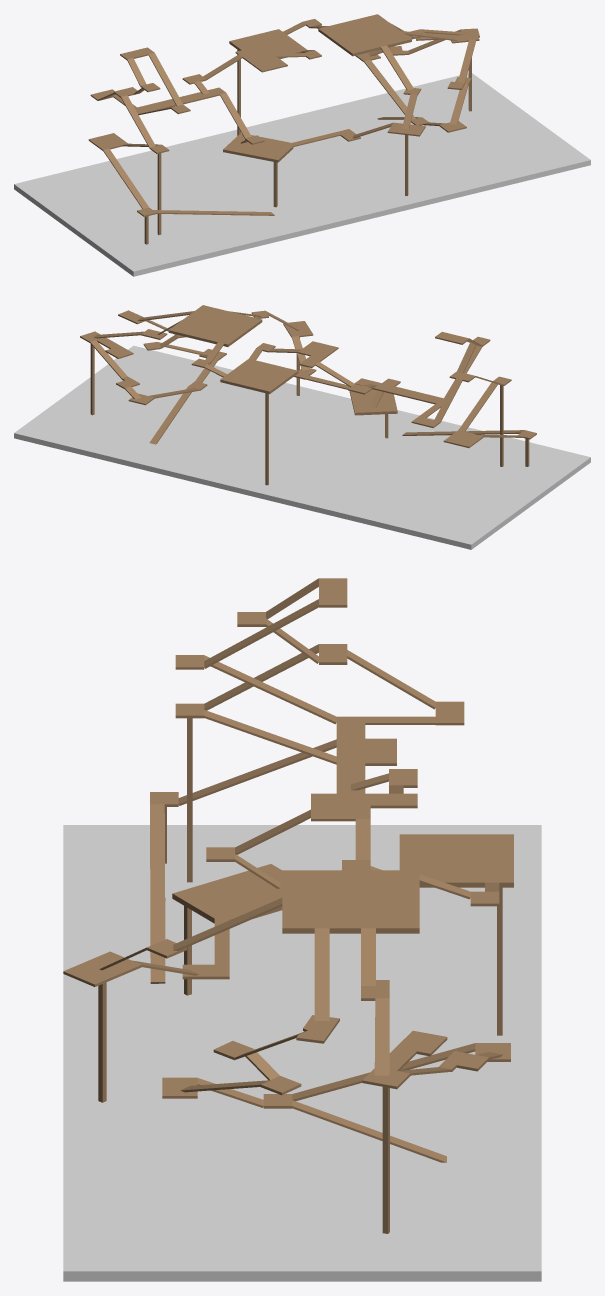
The model's file is 01_DIZUO.glb.
The picture shows the model from 3 angles, top to bottom: view 1: azimuth 30°, elevation 25°; view 2: azimuth 150°, elevation 25°; view 3: azimuth 270°, elevation 25°; orthographic projection. The views are drawn at different scales.
Visible parts, largest first — view 1: 01 DIZUO; view 2: 01 DIZUO; view 3: 01 DIZUO.
Boxes of the visible parts, x1,y1,x2,y2 form: 01 DIZUO: (14,14,590,276); 01 DIZUO: (14,305,590,549); 01 DIZUO: (63,578,541,1281).
Bounding box in the file's own units: 9.23 × 3.02 × 4.18.
